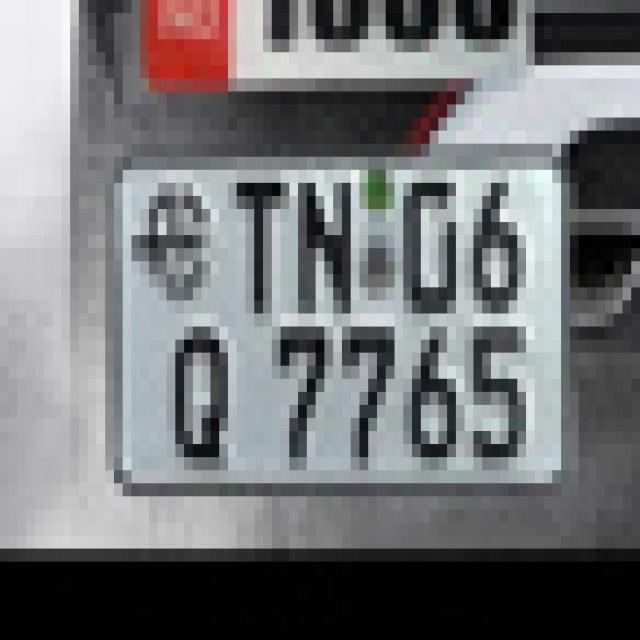0: (400, 166, 464, 313)
5: (464, 319, 538, 486)
6: (400, 310, 462, 484), (474, 170, 524, 322)
7: (338, 314, 395, 486), (272, 317, 331, 478)
N: (294, 150, 362, 320)
Q: (164, 316, 236, 474)
T: (224, 158, 294, 332)
